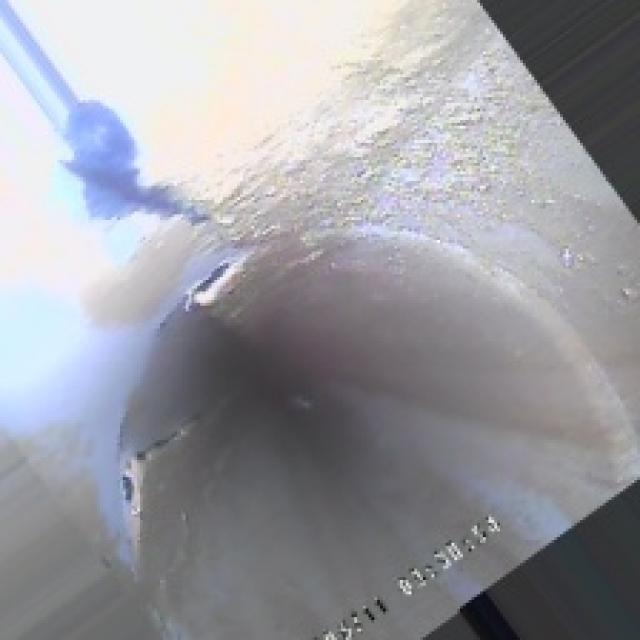pipe_surface_damage: (63, 234, 274, 566)
